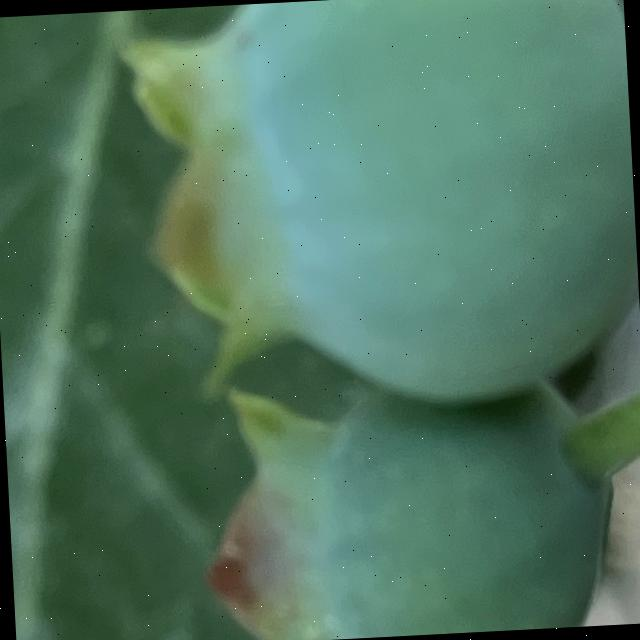Blueberries: (120, 0, 640, 424), (192, 368, 616, 640)
